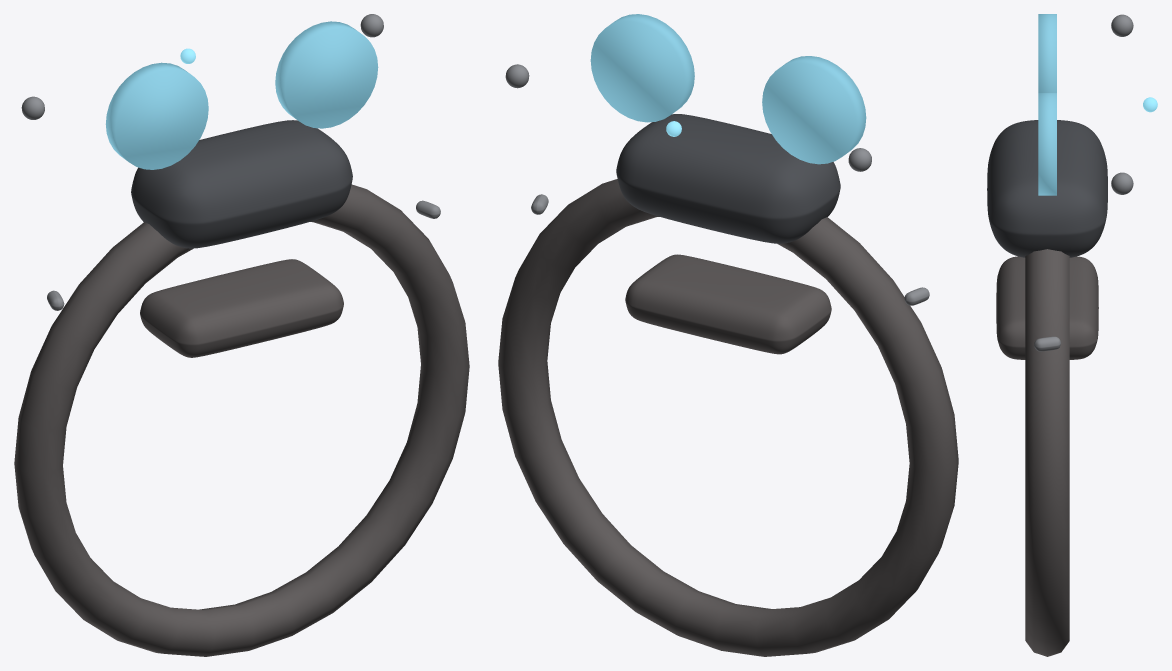
Rendered from vr-headset.glb.
3 views of the same model, side by side, from view 1: azimuth 30°, elevation 25°; view 2: azimuth 150°, elevation 25°; view 3: azimuth 270°, elevation 25° (orthographic). The views are drawn at different scales.
Visible parts, largest first — view 1: VRHeadset; view 2: VRHeadset; view 3: VRHeadset.
Part boxes in pixels (box(x1,y1,x2,y2)): VRHeadset: box(14, 14, 469, 656); VRHeadset: box(498, 14, 958, 656); VRHeadset: box(987, 14, 1157, 656).
Size of the model in its own units: 0.53 by 0.68 by 0.1827.
